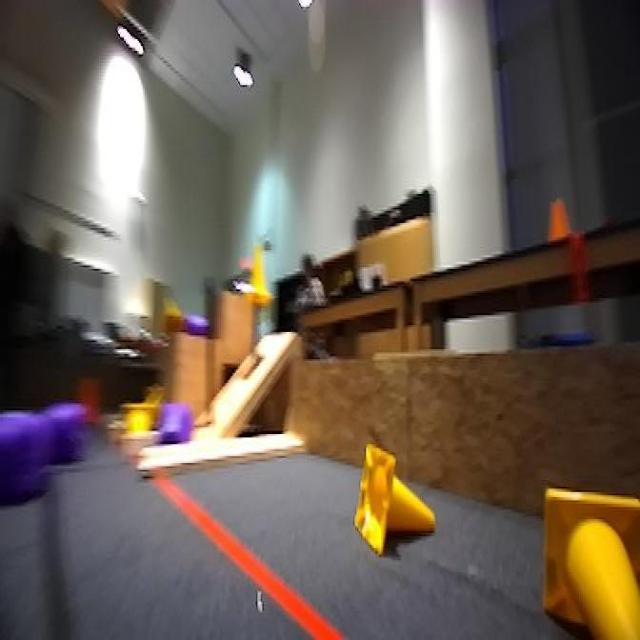frc_cone: (537, 481, 640, 640), (354, 444, 416, 553), (248, 240, 276, 310), (119, 400, 158, 437)
frc_cube: (0, 412, 58, 494), (52, 402, 87, 463), (157, 398, 187, 444), (176, 302, 211, 341)
